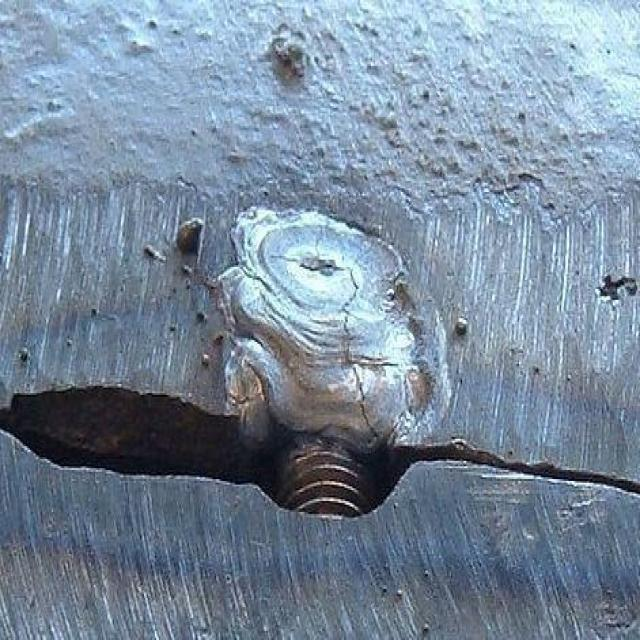Crack: (268, 232, 381, 448)
